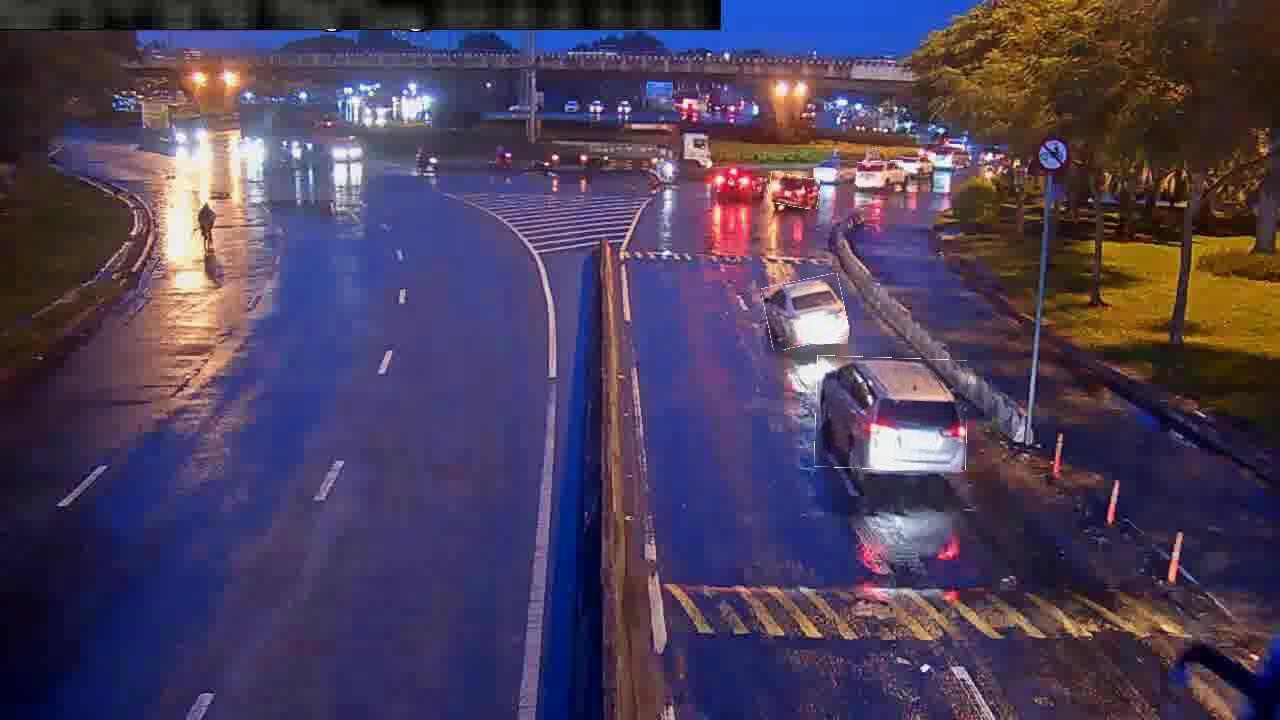container: (815, 357, 968, 470), (764, 276, 848, 348), (768, 174, 820, 208), (858, 161, 904, 191)
